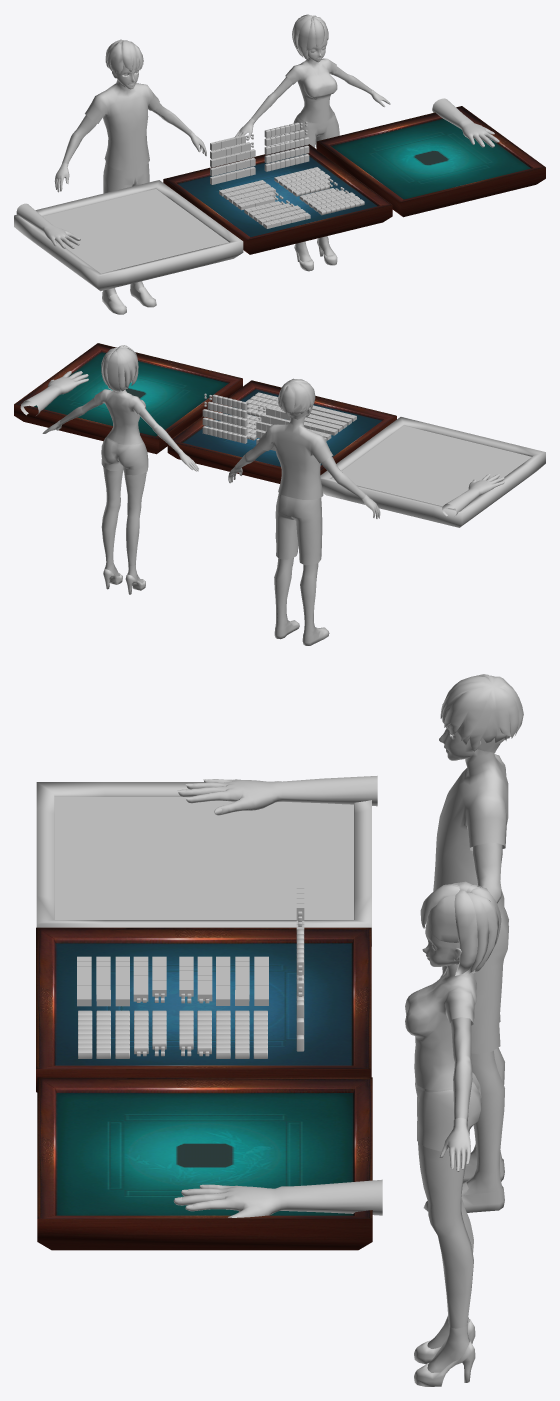
Rendered from MJTable.FBX.
3 views of the same model, one above another, from view 1: azimuth 30°, elevation 25°; view 2: azimuth 150°, elevation 25°; view 3: azimuth 270°, elevation 25° (orthographic). The views are drawn at different scales.
Parts seen in each view (by area): view 1: mjtai003, mjtai001, mjtai002, 男身, 女衣服, 麻将简, 麻将高, 对象005, 麻将简002, 麻将简001, 麻将高002, 麻将高001 (+10 smaller); view 2: mjtai001, mjtai003, mjtai002, 男腿, 男身, 女腿, 女衣服, 麻将高, 女发, 男发, 对象005, 麻将简002 (+7 smaller); view 3: mjtai003, mjtai001, mjtai002, 女腿, 男身, 女衣服, 男腿, 对象005, __, 女发, 男发, 麻将简002 (+12 smaller).
Boxes of the visible parts, x1,y1,x2,y2 form: mjtai003: [316, 106, 545, 217]; mjtai001: [14, 180, 243, 291]; mjtai002: [163, 144, 392, 254]; 男身: [62, 79, 192, 170]; 女衣服: [251, 57, 371, 123]; 麻将简: [210, 134, 255, 184]; 麻将高: [264, 121, 309, 171]; 对象005: [432, 98, 499, 147]; 麻将简002: [244, 200, 310, 228]; 麻将简001: [219, 180, 283, 210]; 麻将高002: [299, 187, 364, 215]; 麻将高001: [274, 167, 337, 196]; mjtai001: [320, 417, 545, 527]; mjtai003: [14, 343, 242, 454]; mjtai002: [167, 380, 396, 483]; 男腿: [274, 493, 322, 625]; 男身: [235, 414, 365, 499]; 女腿: [101, 436, 148, 565]; 女衣服: [60, 389, 180, 452]; 麻将高: [202, 393, 247, 443]; 女发: [101, 345, 138, 391]; 男发: [278, 378, 315, 419]; 对象005: [20, 371, 88, 415]; 麻将简002: [304, 405, 356, 435]; mjtai003: [37, 1077, 372, 1250]; mjtai001: [36, 782, 371, 946]; mjtai002: [36, 927, 371, 1092]; 女腿: [415, 1072, 481, 1328]; 男身: [433, 749, 508, 914]; 女衣服: [405, 964, 476, 1120]; 男腿: [442, 907, 508, 1172]; 对象005: [173, 1179, 382, 1217]; __: [177, 776, 377, 815]; 女发: [420, 881, 501, 975]; 男发: [440, 674, 523, 752]; 麻将简002: [77, 956, 166, 1006].
Bounding box in the file's own units: 3.22 × 1.77 × 1.52.
